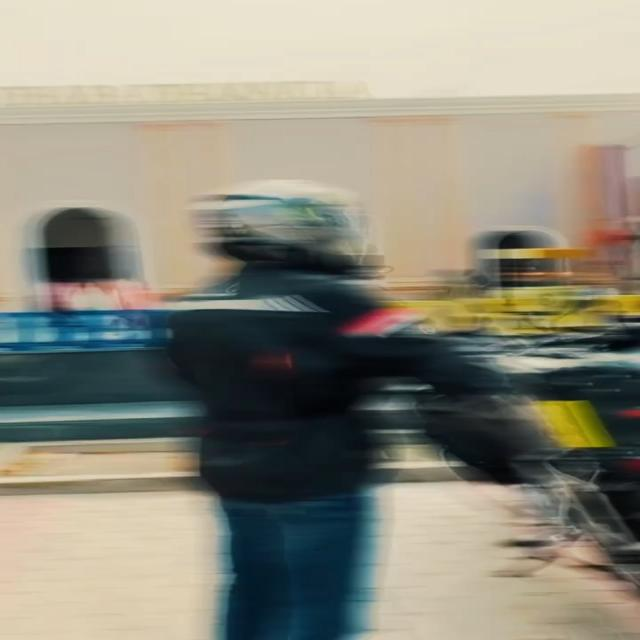Helmet_Wearer: (183, 179, 383, 269)
Jacket_Wearer: (152, 269, 480, 498)
Person: (156, 190, 410, 640)
